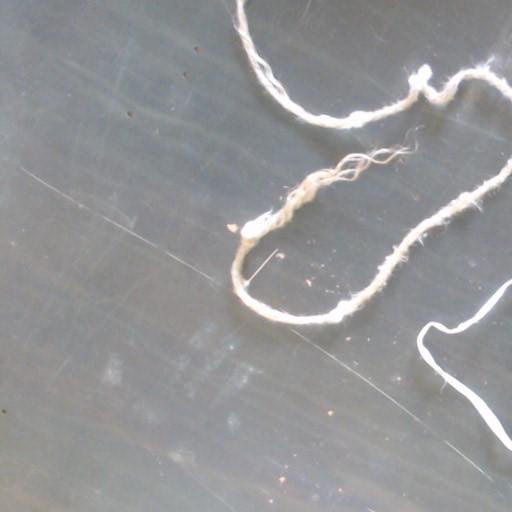conveyor belt: (247, 0, 511, 114)
jute: (231, 149, 511, 324), (235, 0, 511, 129)
thread: (416, 279, 511, 451)
